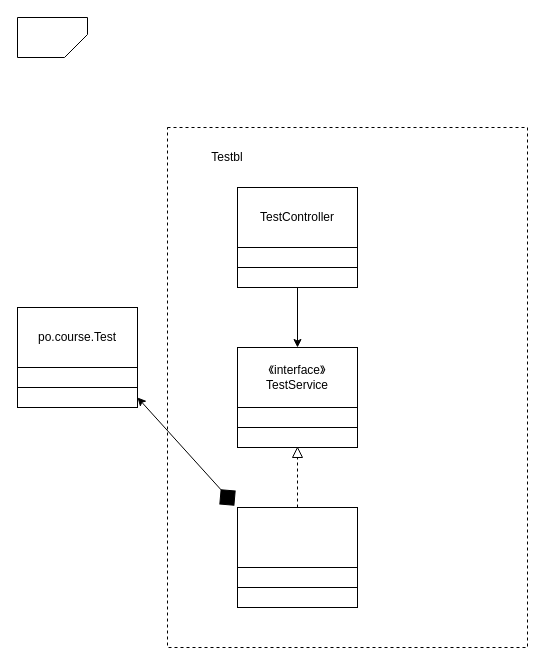
Image size: 545x665. Some labels were removed from this diagram. The centre of each missing label's shape, as x and y in pixels:
"pkg" belongs at pixel 52 37.
"TestServiceimpl" belongs at pixel 297 537.
